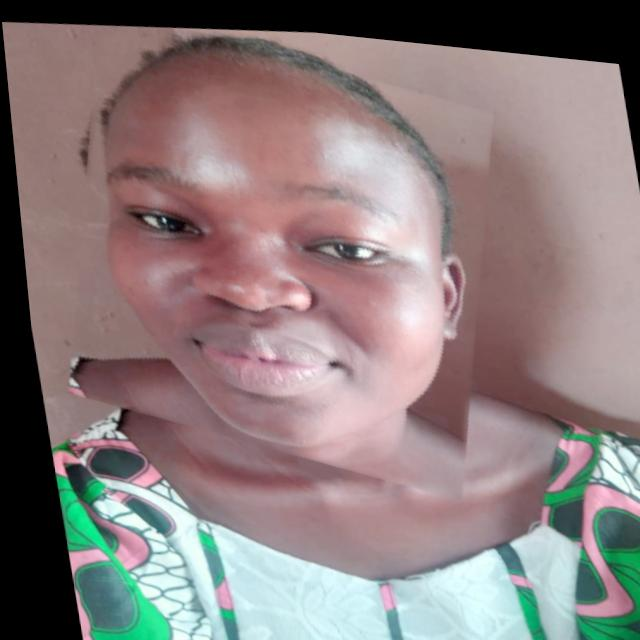happy: (25, 2, 526, 501)
